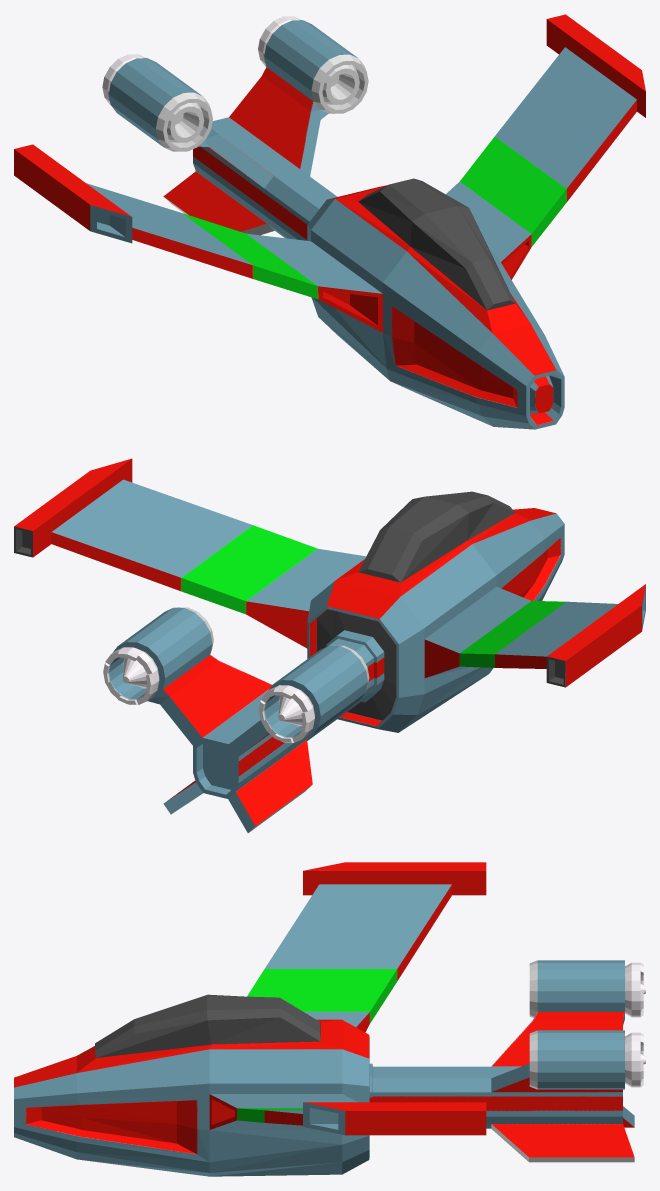
Rendered from Player.fbx.
3 renders of one model, top to bottom at view 1: azimuth 30°, elevation 25°; view 2: azimuth 150°, elevation 25°; view 3: azimuth 270°, elevation 25°, orthographic. The views are drawn at different scales.
Parts seen in each view (by area): view 1: SpaceShip; view 2: SpaceShip; view 3: SpaceShip.
Part boxes in pixels (box(x1,y1,x2,y2)): SpaceShip: box(14, 14, 645, 429); SpaceShip: box(14, 458, 645, 832); SpaceShip: box(14, 862, 645, 1176).
Size of the model in its own units: 4.43 by 1.47 by 4.76.
1 material, 1 textured.
